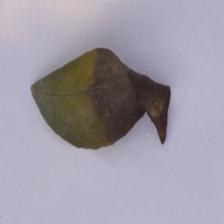black spot: (88, 44, 176, 140)
